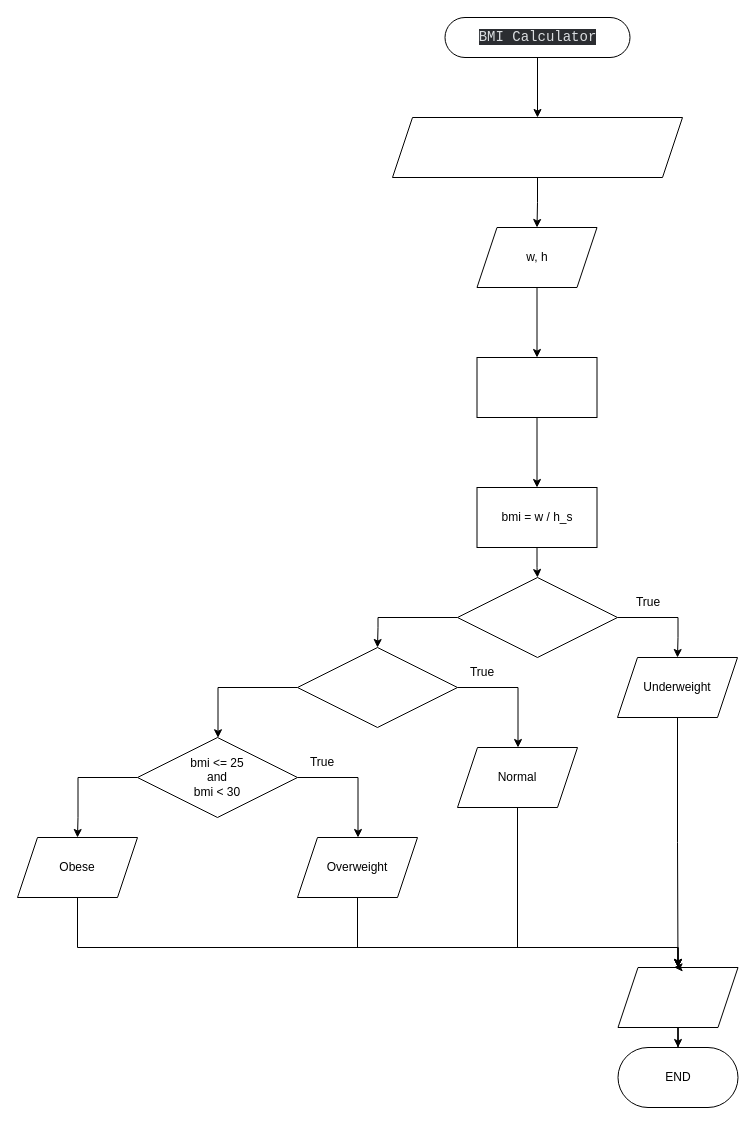
Image size: 756x1125. Some labels were removed from this diagram. The centre of each missing label's shape, as x and y in pixels:
"bmi < 18.5" belongs at (537,617).
"bmi <= 18.5 and bmi < 25" belongs at (377,687).
"Enter your weight(kg) and height(m) >>>" belongs at (537,147).
"h_s = h * h" belongs at (536,387).
"Your BMI is bmi" belongs at (677,997).
